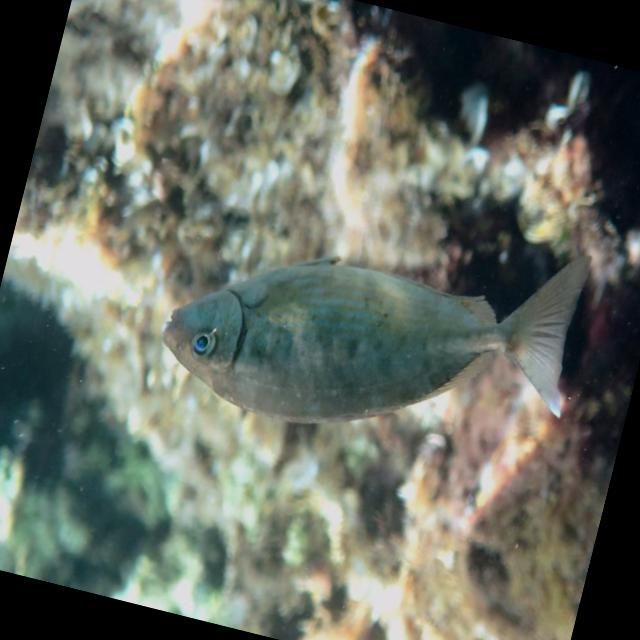Sokar Baligi: (91, 137, 622, 514)
